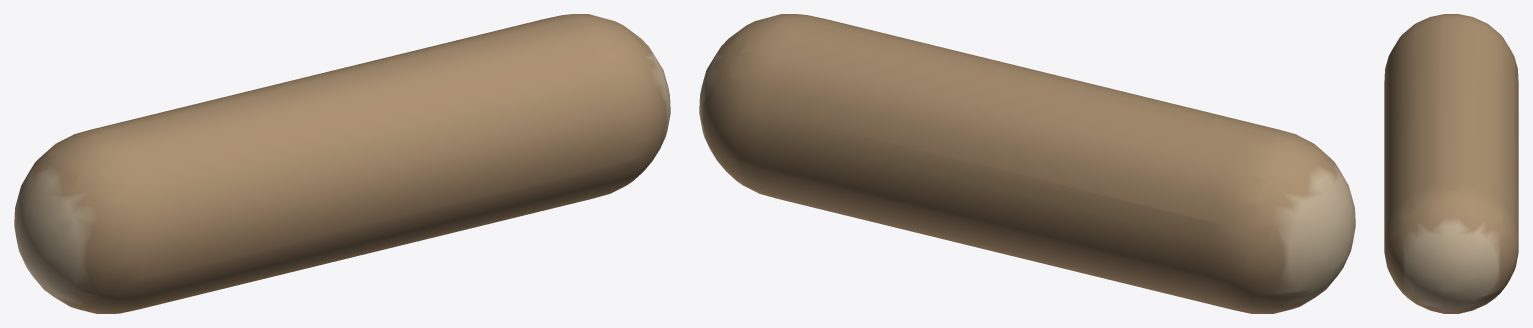
File: Item_Log.fbx
3 renders of one model, left to right at view 1: azimuth 30°, elevation 25°; view 2: azimuth 150°, elevation 25°; view 3: azimuth 270°, elevation 25°, orthographic. The views are drawn at different scales.
Visible parts, largest first — view 1: Item_Log; view 2: Item_Log; view 3: Item_Log.
Boxes of the visible parts, x1,y1,x2,y2 form: Item_Log: (14,14,670,313); Item_Log: (699,14,1355,313); Item_Log: (1384,14,1518,313).
Size of the model in its own units: 0.9382 by 0.2387 by 0.2396.
